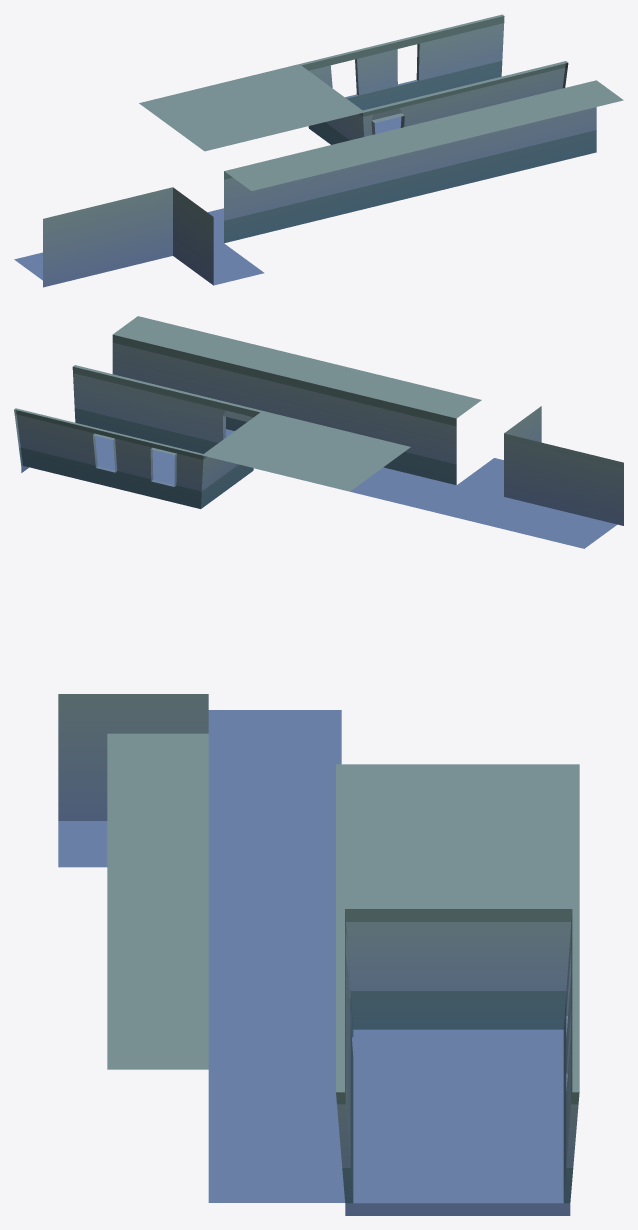
The model's file is Environment1.fbx.
3 views of the same model, one above another, from view 1: azimuth 30°, elevation 25°; view 2: azimuth 150°, elevation 25°; view 3: azimuth 270°, elevation 25° (orthographic). The views are drawn at different scales.
Parts seen in each view (by area): view 1: Cube; view 2: Cube; view 3: Cube.
Part boxes in pixels (<box>): Cube: <box>14,14,623,287</box>; Cube: <box>14,316,623,548</box>; Cube: <box>58,694,579,1215</box>.
Size of the model in its own units: 171 by 22.94 by 74.39.
